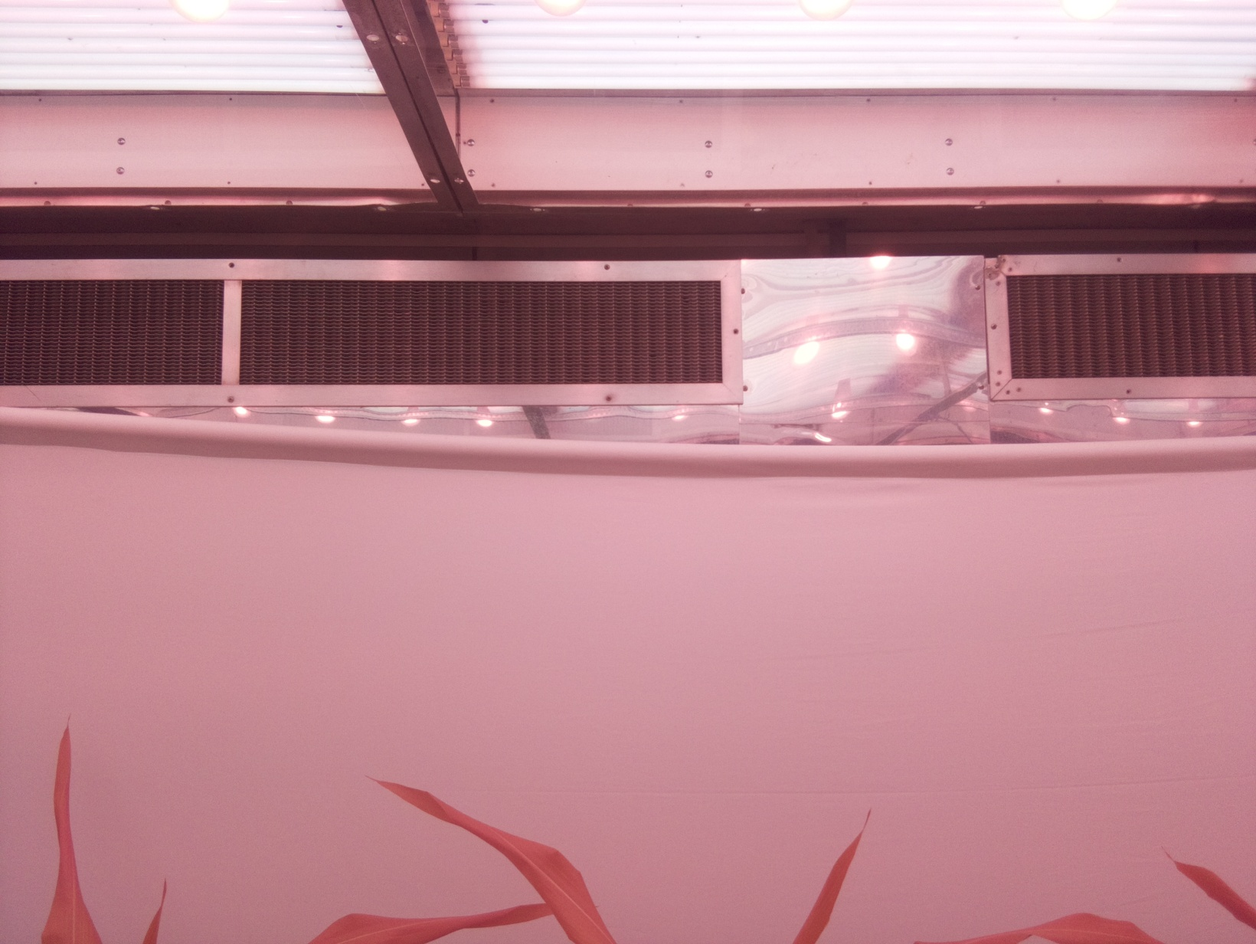maize: (306, 773, 873, 944), (911, 844, 1256, 944), (40, 714, 168, 944)
